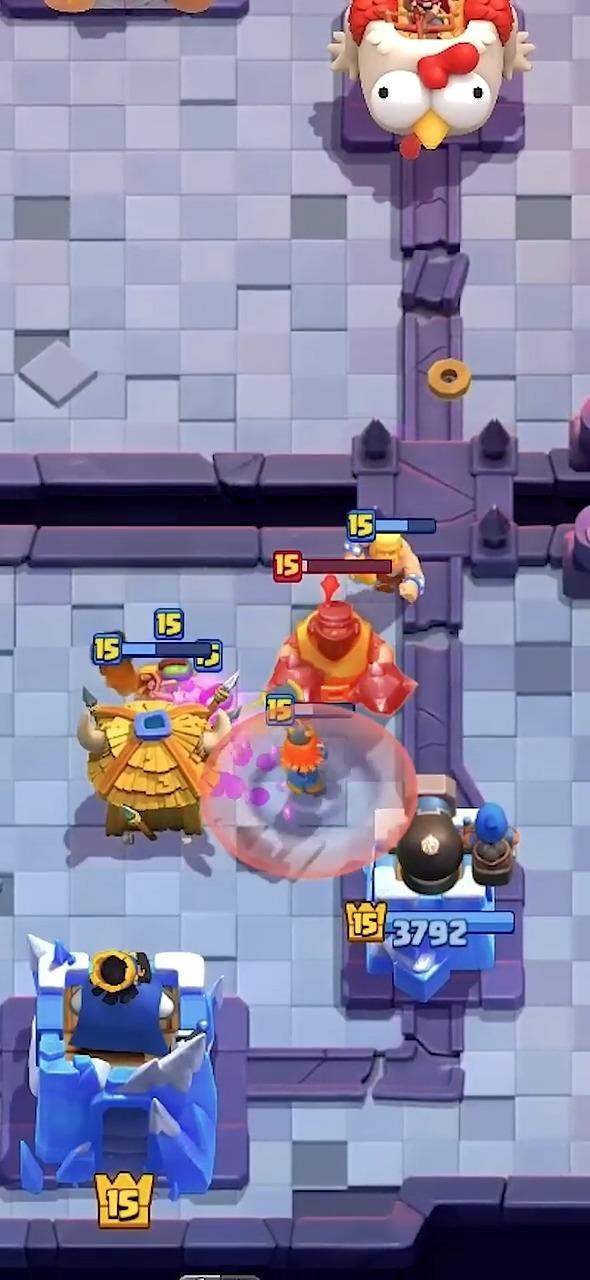barbarian: (351, 534, 424, 602)
goblin hut: (78, 685, 231, 841)
mega knight: (267, 574, 416, 716)
valkyrie: (280, 720, 325, 794)
